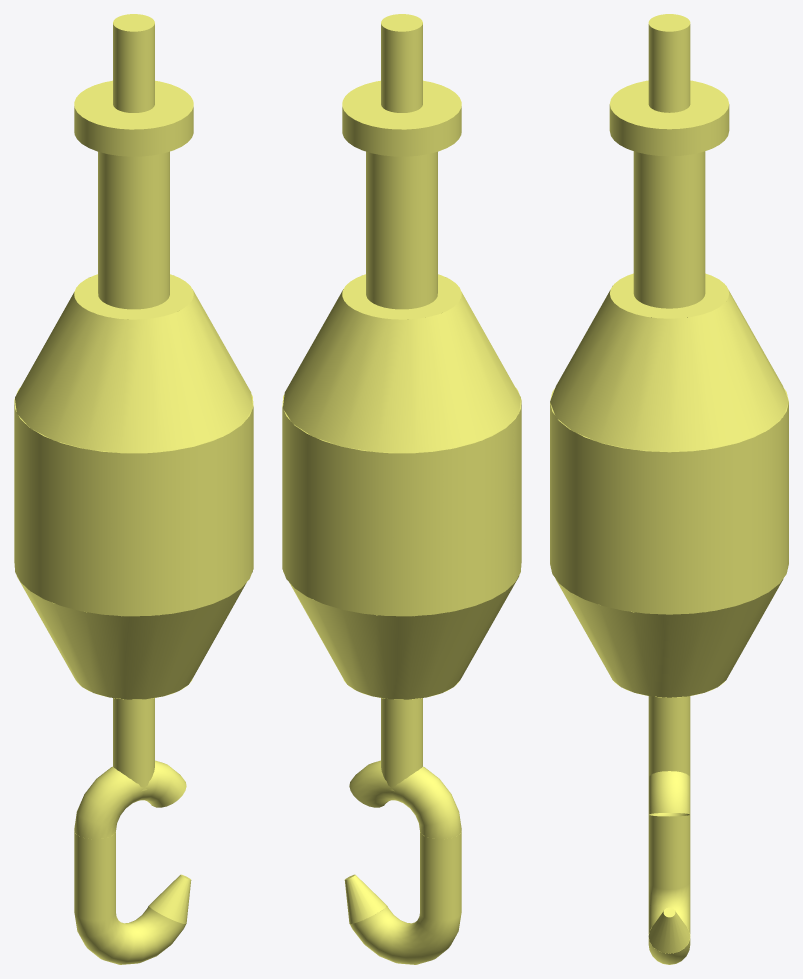
The model's file is Image-1711348149341-2280988716880_73-MA50-CRANE-SWIVEL-BLOCK.fbx.
3 renders of one model, left to right at view 1: azimuth 30°, elevation 25°; view 2: azimuth 150°, elevation 25°; view 3: azimuth 270°, elevation 25°, orthographic.
Parts seen in each view (by area): view 1: CYLINDER 4 of STRUCTURE /73-MA50-CRANE-SWIVEL-BLOCK, CONE 1 of STRUCTURE /73-MA50-CRANE-SWIVEL-BLOCK, CONE 2 of STRUCTURE /73-MA50-CRANE-SWIVEL-BLOCK, CYLINDER 3 of STRUCTURE /73-MA50-CRANE-SWIVEL-BLOCK, CYLINDER 2 of STRUCTURE /73-MA50-CRANE-SWIVEL-BLOCK, CTORUS 1 of STRUCTURE /73-MA50-CRANE-SWIVEL-BLOCK, CYLINDER 1 of STRUCTURE /73-MA50-CRANE-SWIVEL-BLOCK, CTORUS 2 of STRUCTURE /73-MA50-CRANE-SWIVEL-BLOCK, CYLINDER 6 of STRUCTURE /73-MA50-CRANE-SWIVEL-BLOCK, CYLINDER 5 of STRUCTURE /73-MA50-CRANE-SWIVEL-BLOCK, CONE 3 of STRUCTURE /73-MA50-CRANE-SWIVEL-BLOCK; view 2: CYLINDER 4 of STRUCTURE /73-MA50-CRANE-SWIVEL-BLOCK, CONE 1 of STRUCTURE /73-MA50-CRANE-SWIVEL-BLOCK, CONE 2 of STRUCTURE /73-MA50-CRANE-SWIVEL-BLOCK, CYLINDER 3 of STRUCTURE /73-MA50-CRANE-SWIVEL-BLOCK, CYLINDER 2 of STRUCTURE /73-MA50-CRANE-SWIVEL-BLOCK, CTORUS 1 of STRUCTURE /73-MA50-CRANE-SWIVEL-BLOCK, CYLINDER 1 of STRUCTURE /73-MA50-CRANE-SWIVEL-BLOCK, CTORUS 2 of STRUCTURE /73-MA50-CRANE-SWIVEL-BLOCK, CYLINDER 6 of STRUCTURE /73-MA50-CRANE-SWIVEL-BLOCK, CYLINDER 5 of STRUCTURE /73-MA50-CRANE-SWIVEL-BLOCK, CONE 3 of STRUCTURE /73-MA50-CRANE-SWIVEL-BLOCK; view 3: CYLINDER 4 of STRUCTURE /73-MA50-CRANE-SWIVEL-BLOCK, CONE 1 of STRUCTURE /73-MA50-CRANE-SWIVEL-BLOCK, CONE 2 of STRUCTURE /73-MA50-CRANE-SWIVEL-BLOCK, CYLINDER 3 of STRUCTURE /73-MA50-CRANE-SWIVEL-BLOCK, CYLINDER 2 of STRUCTURE /73-MA50-CRANE-SWIVEL-BLOCK, CYLINDER 1 of STRUCTURE /73-MA50-CRANE-SWIVEL-BLOCK, CYLINDER 5 of STRUCTURE /73-MA50-CRANE-SWIVEL-BLOCK, CYLINDER 6 of STRUCTURE /73-MA50-CRANE-SWIVEL-BLOCK, CTORUS 1 of STRUCTURE /73-MA50-CRANE-SWIVEL-BLOCK, CTORUS 2 of STRUCTURE /73-MA50-CRANE-SWIVEL-BLOCK, CONE 3 of STRUCTURE /73-MA50-CRANE-SWIVEL-BLOCK.
Boxes of the visible parts, box(x1,y1,x2,y2) form: CYLINDER 4 of STRUCTURE /73-MA50-CRANE-SWIVEL-BLOCK: box(14, 387, 253, 616); CONE 1 of STRUCTURE /73-MA50-CRANE-SWIVEL-BLOCK: box(15, 274, 252, 453); CONE 2 of STRUCTURE /73-MA50-CRANE-SWIVEL-BLOCK: box(16, 571, 252, 699); CYLINDER 3 of STRUCTURE /73-MA50-CRANE-SWIVEL-BLOCK: box(98, 151, 169, 309); CYLINDER 2 of STRUCTURE /73-MA50-CRANE-SWIVEL-BLOCK: box(74, 80, 193, 156); CTORUS 1 of STRUCTURE /73-MA50-CRANE-SWIVEL-BLOCK: box(74, 760, 186, 839); CYLINDER 1 of STRUCTURE /73-MA50-CRANE-SWIVEL-BLOCK: box(113, 14, 154, 112); CTORUS 2 of STRUCTURE /73-MA50-CRANE-SWIVEL-BLOCK: box(74, 906, 185, 964); CYLINDER 6 of STRUCTURE /73-MA50-CRANE-SWIVEL-BLOCK: box(74, 832, 115, 920); CYLINDER 5 of STRUCTURE /73-MA50-CRANE-SWIVEL-BLOCK: box(113, 698, 154, 791); CONE 3 of STRUCTURE /73-MA50-CRANE-SWIVEL-BLOCK: box(149, 874, 191, 923); CYLINDER 4 of STRUCTURE /73-MA50-CRANE-SWIVEL-BLOCK: box(282, 387, 521, 616); CONE 1 of STRUCTURE /73-MA50-CRANE-SWIVEL-BLOCK: box(283, 274, 520, 453); CONE 2 of STRUCTURE /73-MA50-CRANE-SWIVEL-BLOCK: box(283, 571, 519, 699); CYLINDER 3 of STRUCTURE /73-MA50-CRANE-SWIVEL-BLOCK: box(366, 151, 437, 309); CYLINDER 2 of STRUCTURE /73-MA50-CRANE-SWIVEL-BLOCK: box(342, 80, 461, 156); CTORUS 1 of STRUCTURE /73-MA50-CRANE-SWIVEL-BLOCK: box(349, 760, 461, 839); CYLINDER 1 of STRUCTURE /73-MA50-CRANE-SWIVEL-BLOCK: box(381, 14, 422, 112); CTORUS 2 of STRUCTURE /73-MA50-CRANE-SWIVEL-BLOCK: box(350, 906, 461, 964); CYLINDER 6 of STRUCTURE /73-MA50-CRANE-SWIVEL-BLOCK: box(420, 832, 461, 920); CYLINDER 5 of STRUCTURE /73-MA50-CRANE-SWIVEL-BLOCK: box(381, 698, 422, 791); CONE 3 of STRUCTURE /73-MA50-CRANE-SWIVEL-BLOCK: box(344, 874, 386, 923); CYLINDER 4 of STRUCTURE /73-MA50-CRANE-SWIVEL-BLOCK: box(550, 388, 788, 614); CONE 1 of STRUCTURE /73-MA50-CRANE-SWIVEL-BLOCK: box(550, 273, 788, 452); CONE 2 of STRUCTURE /73-MA50-CRANE-SWIVEL-BLOCK: box(555, 579, 783, 697); CYLINDER 3 of STRUCTURE /73-MA50-CRANE-SWIVEL-BLOCK: box(633, 151, 705, 308); CYLINDER 2 of STRUCTURE /73-MA50-CRANE-SWIVEL-BLOCK: box(609, 80, 729, 156); CYLINDER 1 of STRUCTURE /73-MA50-CRANE-SWIVEL-BLOCK: box(648, 14, 690, 112); CYLINDER 5 of STRUCTURE /73-MA50-CRANE-SWIVEL-BLOCK: box(648, 696, 690, 777); CYLINDER 6 of STRUCTURE /73-MA50-CRANE-SWIVEL-BLOCK: box(648, 815, 690, 889); CTORUS 1 of STRUCTURE /73-MA50-CRANE-SWIVEL-BLOCK: box(648, 771, 690, 816); CTORUS 2 of STRUCTURE /73-MA50-CRANE-SWIVEL-BLOCK: box(648, 882, 690, 964); CONE 3 of STRUCTURE /73-MA50-CRANE-SWIVEL-BLOCK: box(648, 907, 690, 953).
Bounding box in the file's own units: 0.4 × 0.4 × 1.73.
